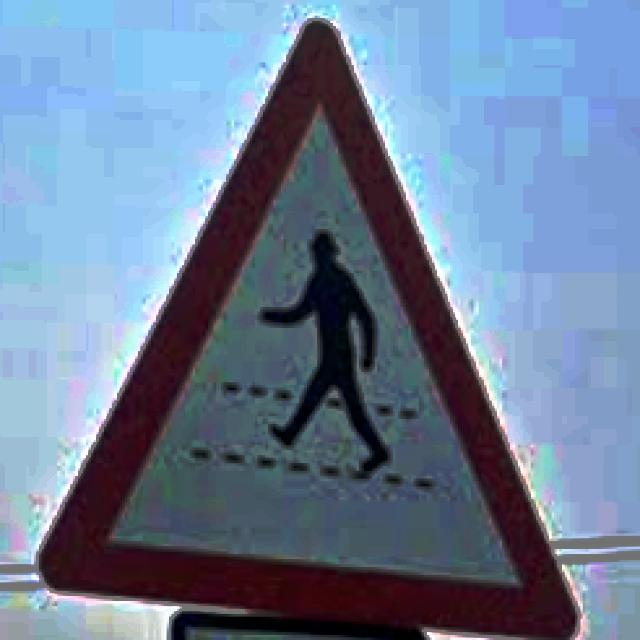pedestriancross: (38, 18, 578, 640)
